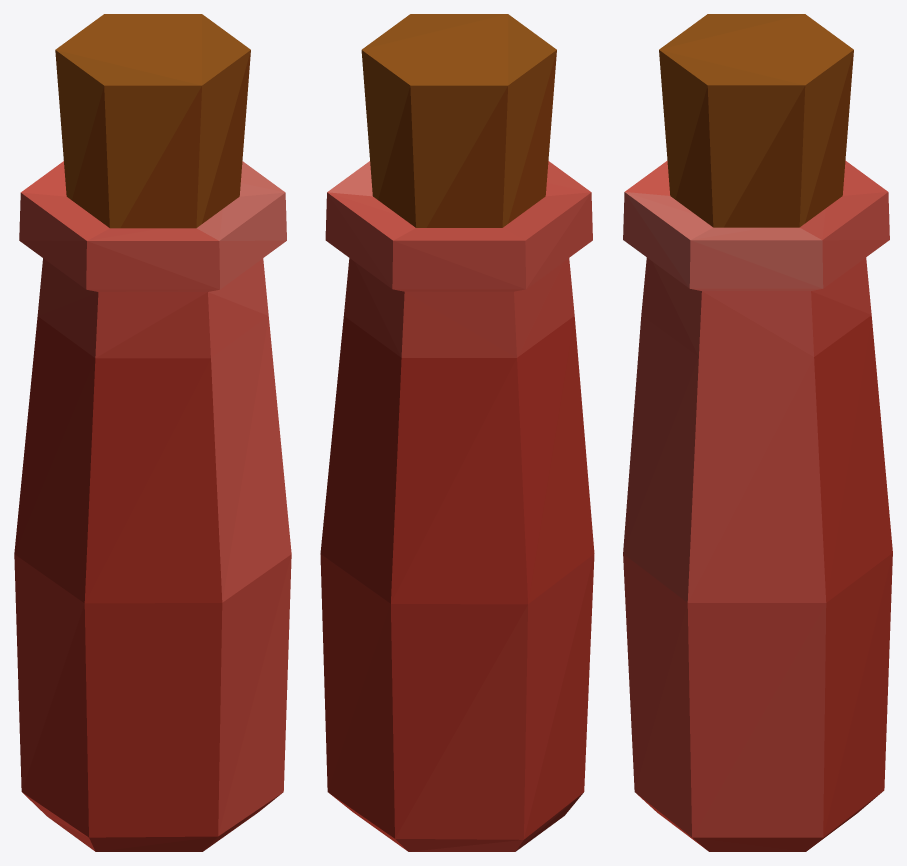
Rendered from prop_bottle_potion_health_4.fbx.
The picture shows the model from 3 angles, left to right: view 1: azimuth 30°, elevation 25°; view 2: azimuth 150°, elevation 25°; view 3: azimuth 270°, elevation 25°; orthographic projection.
Parts seen in each view (by area): view 1: prop_bottle_potion_health_4; view 2: prop_bottle_potion_health_4; view 3: prop_bottle_potion_health_4.
Boxes of the visible parts, left/top/right/bottom form: prop_bottle_potion_health_4: left=14, top=14, right=291, bottom=851; prop_bottle_potion_health_4: left=320, top=14, right=594, bottom=851; prop_bottle_potion_health_4: left=623, top=14, right=892, bottom=851.
Size of the model in its own units: 0.1374 by 0.4837 by 0.155.
